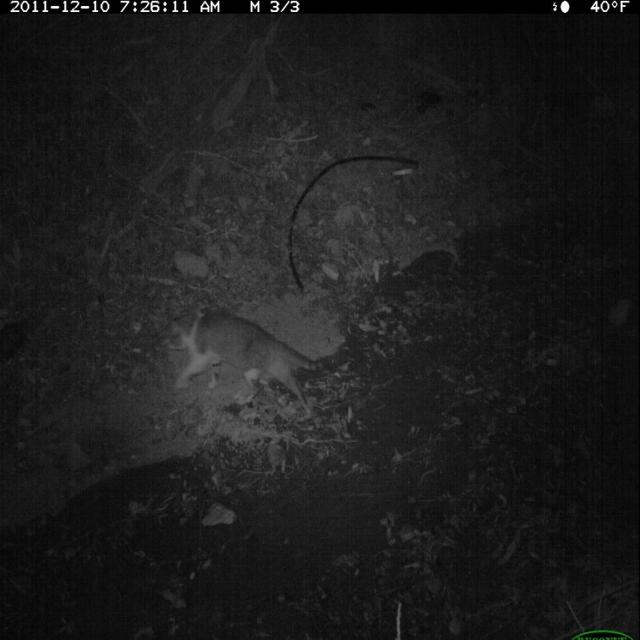cat: (168, 301, 331, 428)
